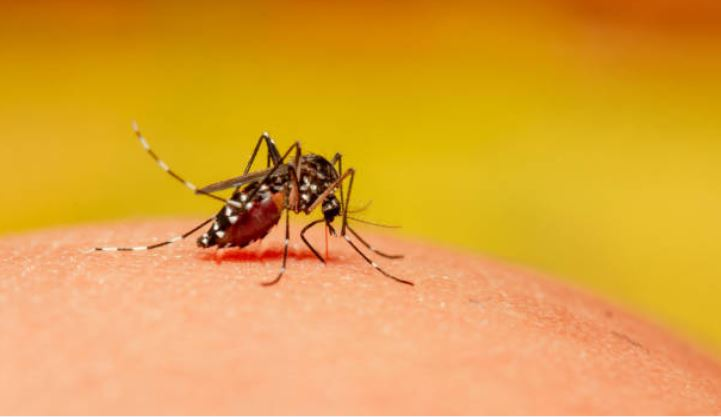dengue_mosquito: (135, 131, 373, 250)
